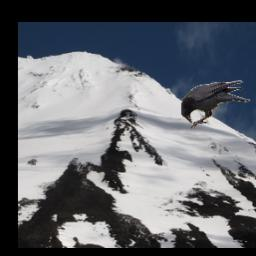Crow: (181, 81, 251, 130)
